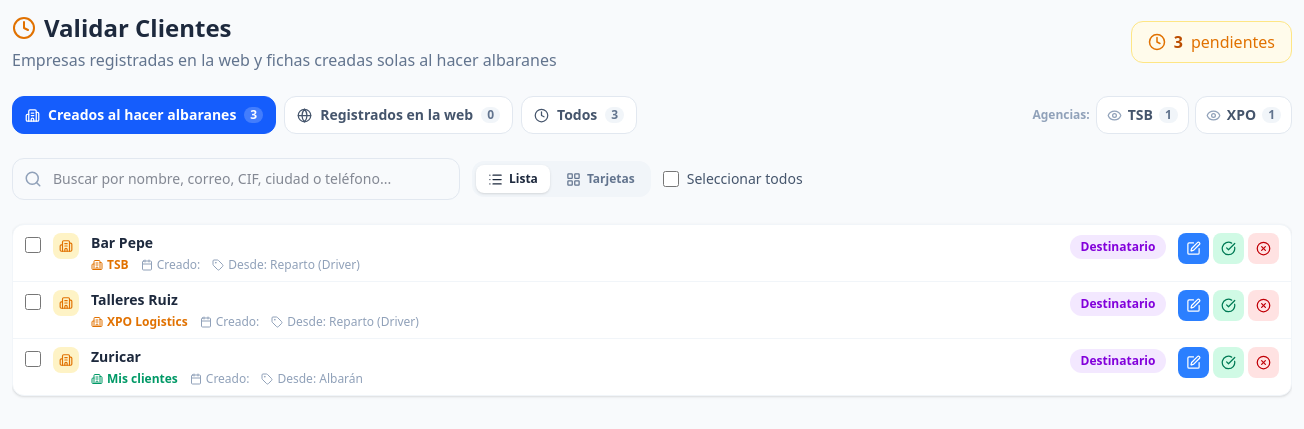
Validar Clientes — quitar de la vista las fichas de TSB, TXT y XPO › avisa de cuántas hay ocultas, y con «Enseñarlas» vuelven todas
Click the button with aria-label "Quitar de la vista las fichas de TSB" at {"x": 1142, "y": 115}, box top-left (1096, 96), bottom-right (1189, 134)
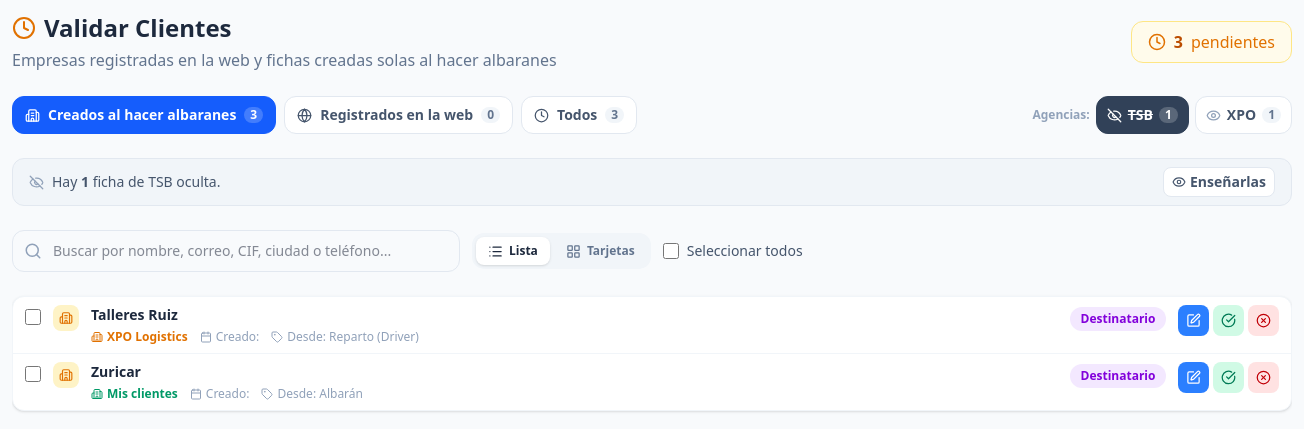
Click the button "XPO 1" at {"x": 1243, "y": 115}, box top-left (1195, 96), bottom-right (1292, 134)
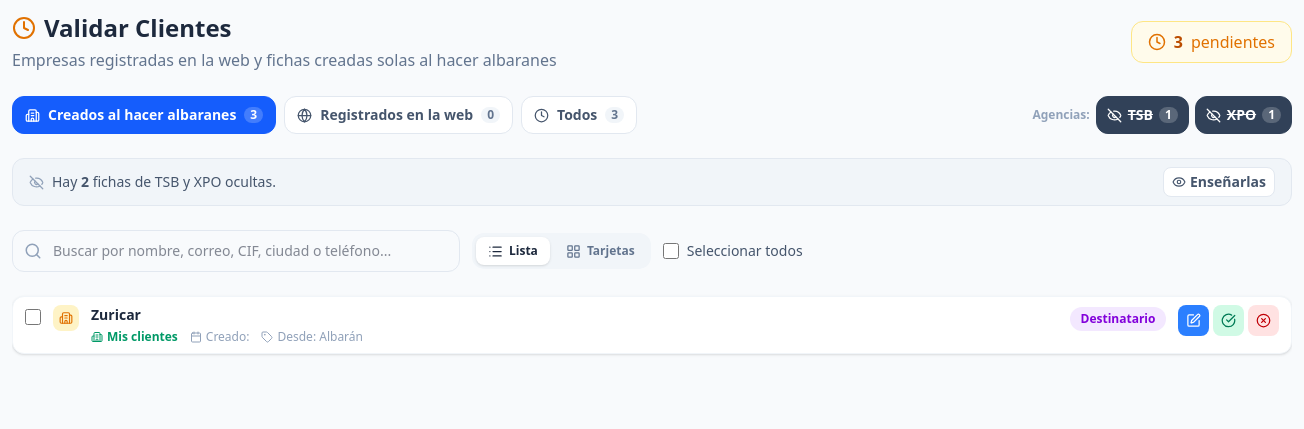
Expected: the text "Zuricar" is shown, top-left (91, 305), bottom-right (141, 325)
Now the text "Hay 2 fichas de TSB y XPO ocultas." is shown, box top-left (52, 172), bottom-right (276, 192)
Click the button "Enseñarlas" at {"x": 1219, "y": 182}, box top-left (1163, 167), bottom-right (1275, 197)
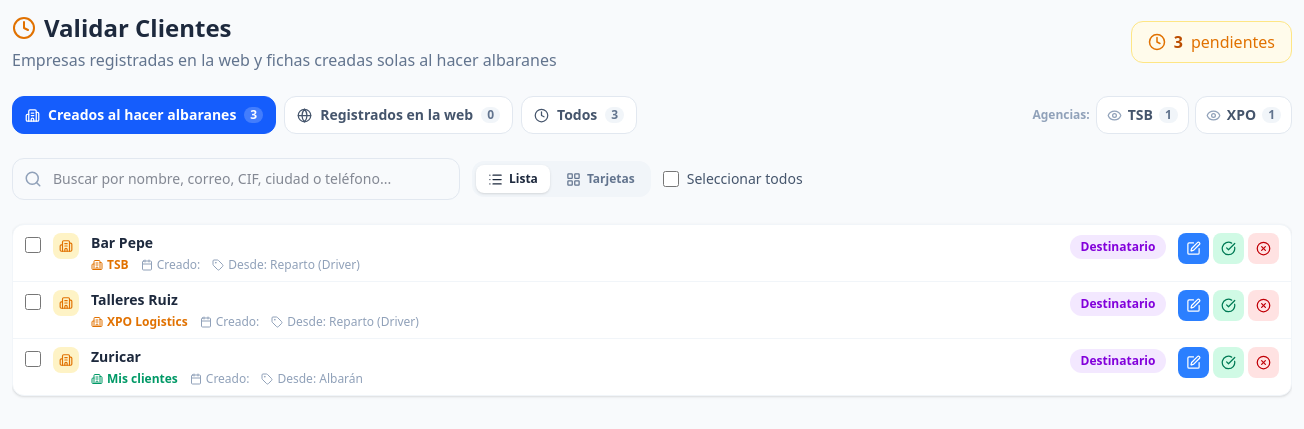
Now the text "Bar Pepe" is shown, box top-left (91, 233), bottom-right (153, 253)
Now the text "Talleres Ruiz" is shown, box top-left (91, 290), bottom-right (178, 310)
Now the text "ocultas" is gone
